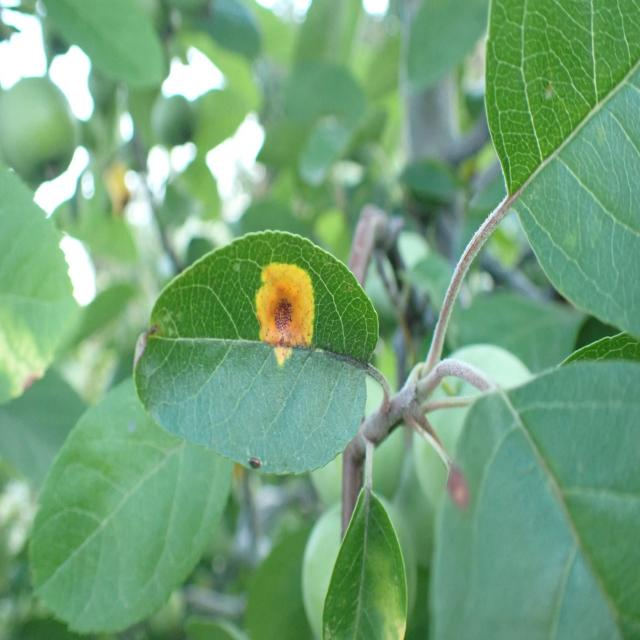rust: (132, 230, 380, 477)
